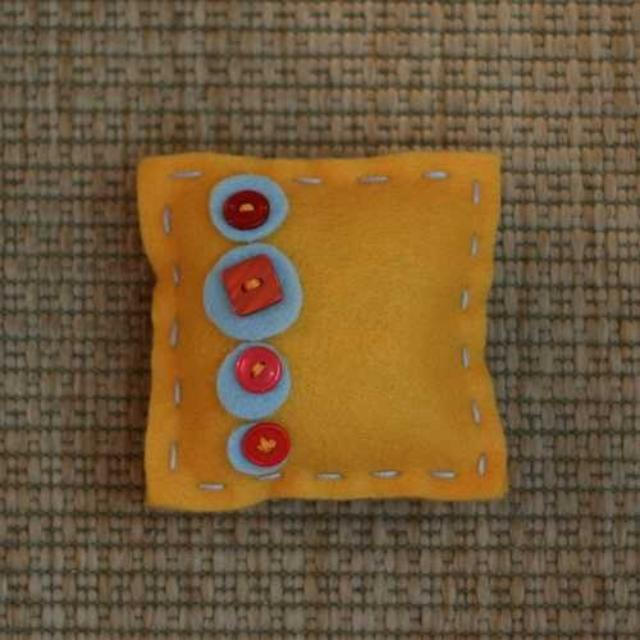pillow: (136, 148, 509, 514)
